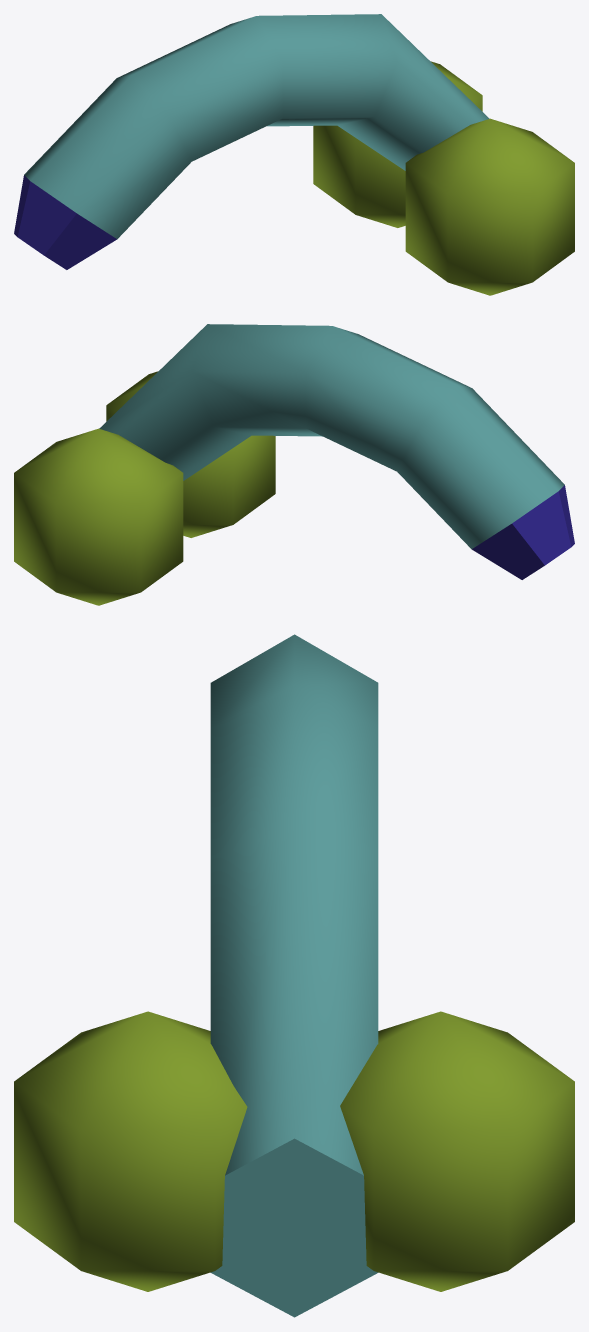
The model's file is zizi_spa.FBX.
3 views of the same model, one above another, from view 1: azimuth 30°, elevation 25°; view 2: azimuth 150°, elevation 25°; view 3: azimuth 270°, elevation 25° (orthographic). The views are drawn at different scales.
Visible parts, largest first — view 1: zizi; view 2: zizi; view 3: zizi.
Part boxes in pixels (box(x1,y1,x2,y2)): zizi: box(14, 14, 574, 295); zizi: box(14, 324, 574, 605); zizi: box(14, 634, 574, 1317).
Size of the model in its own units: 46.29 by 26.35 by 28.98.
